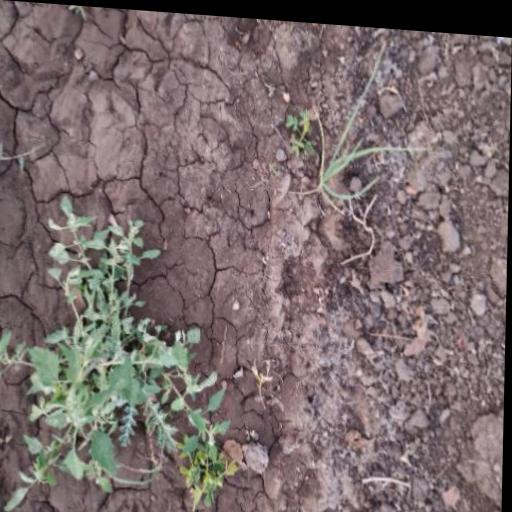weed: (0, 189, 246, 512)
